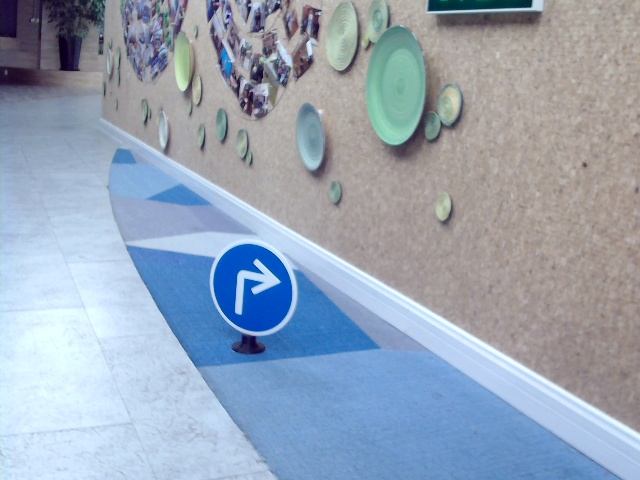turn_right: (229, 257, 278, 313)
